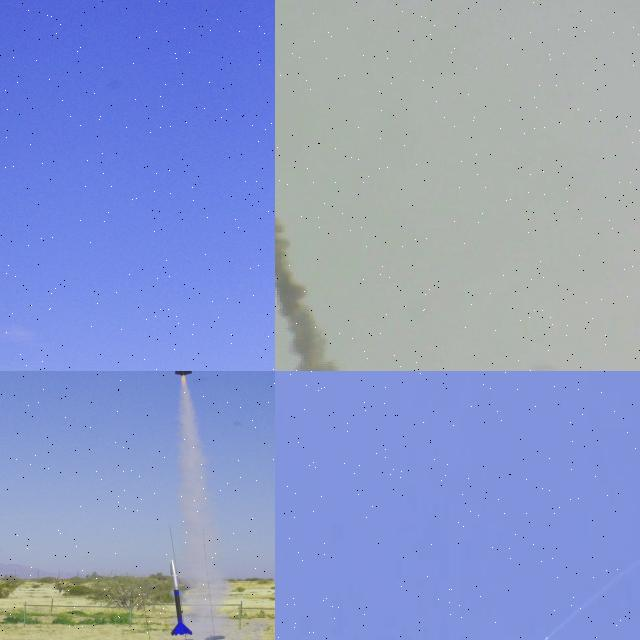Rocket: (170, 558, 193, 636), (540, 635, 548, 640)
